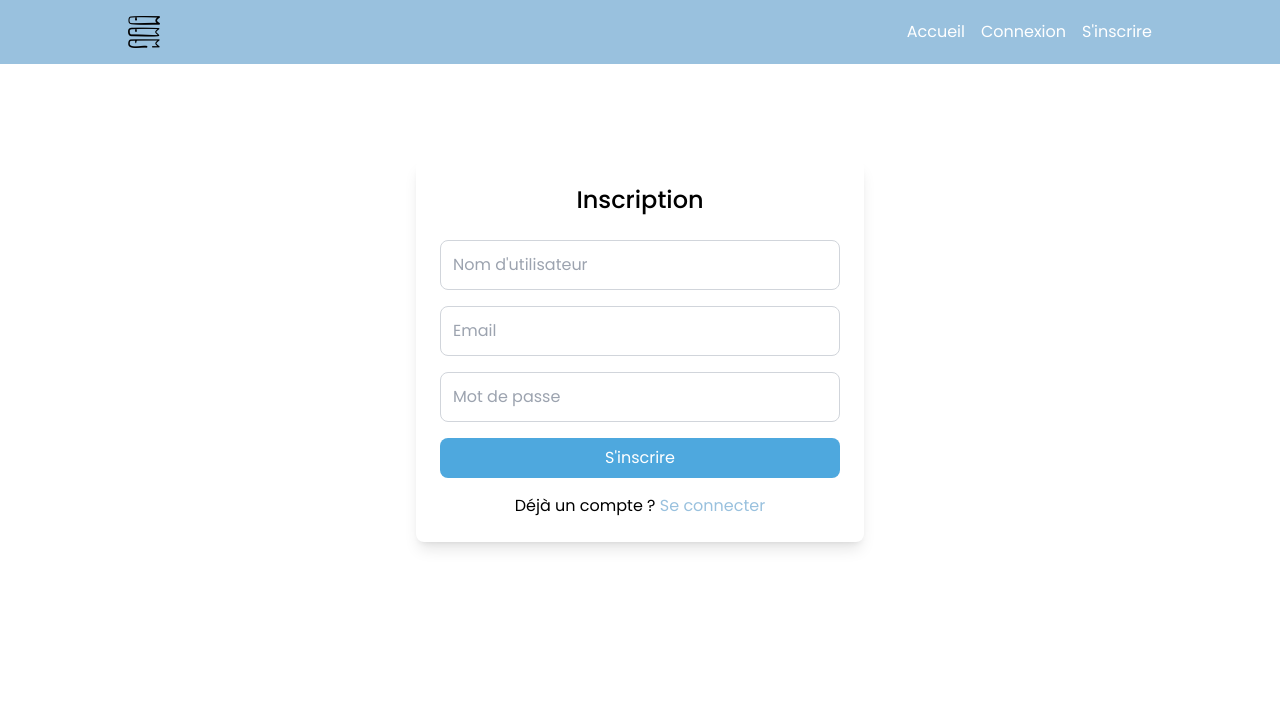
Test: Registration Page Tests › Registration Failure with Existing Email
Type "john" into the field with placeholder "Nom d'utilisateur" at [640, 265], box [440,240,840,290]
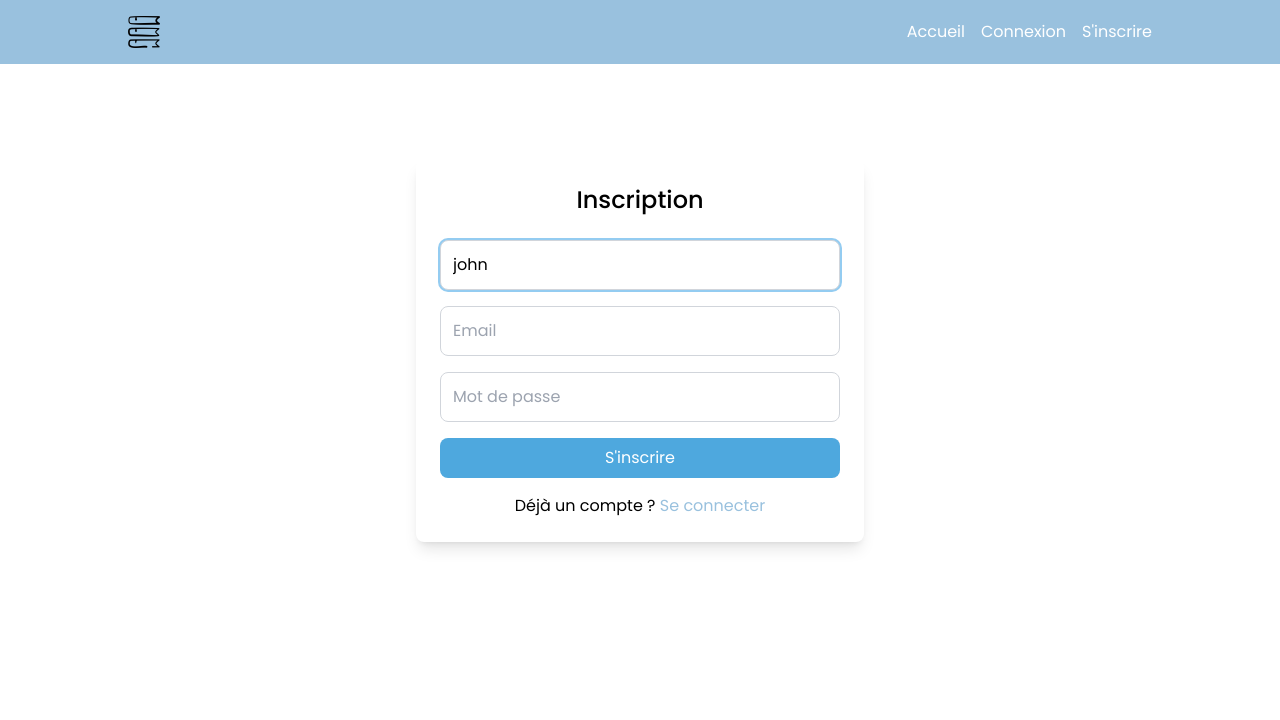
Type "test@test.test" into the field with placeholder "Email" at [640, 331], box [440,306,840,356]
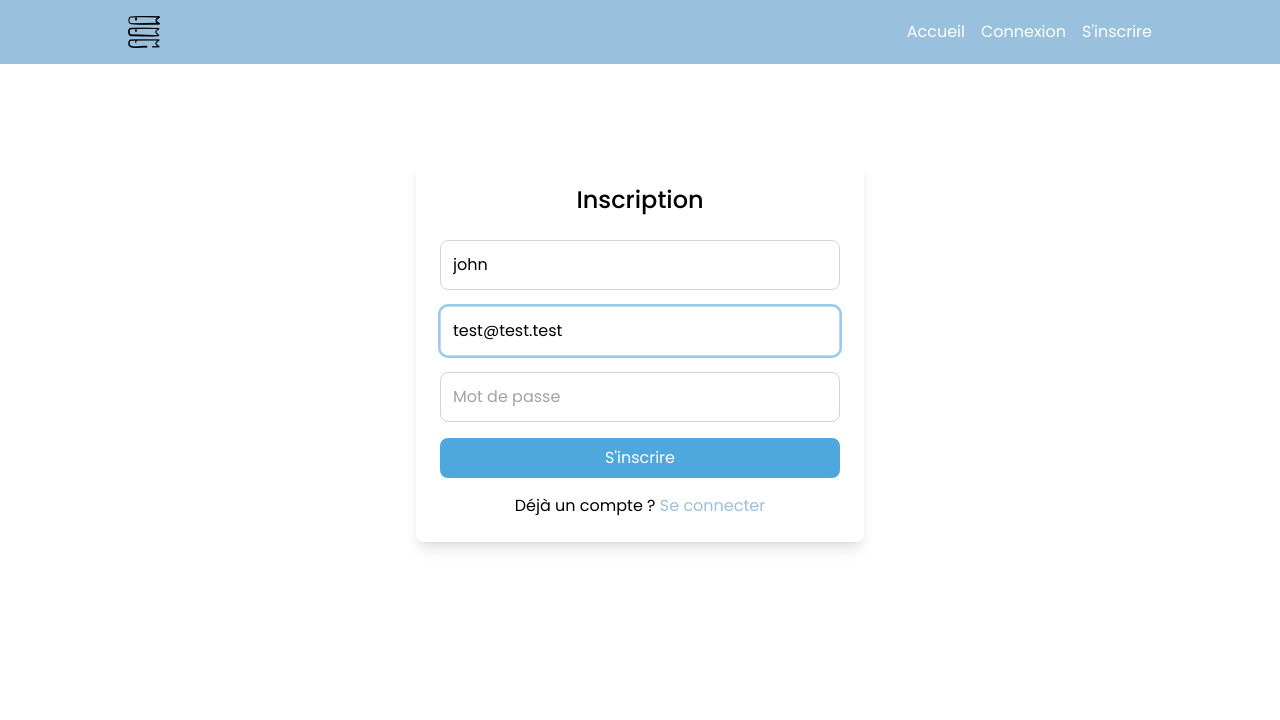
Type "123" into the password field with placeholder "Mot de passe" at [640, 397], box [440,372,840,422]
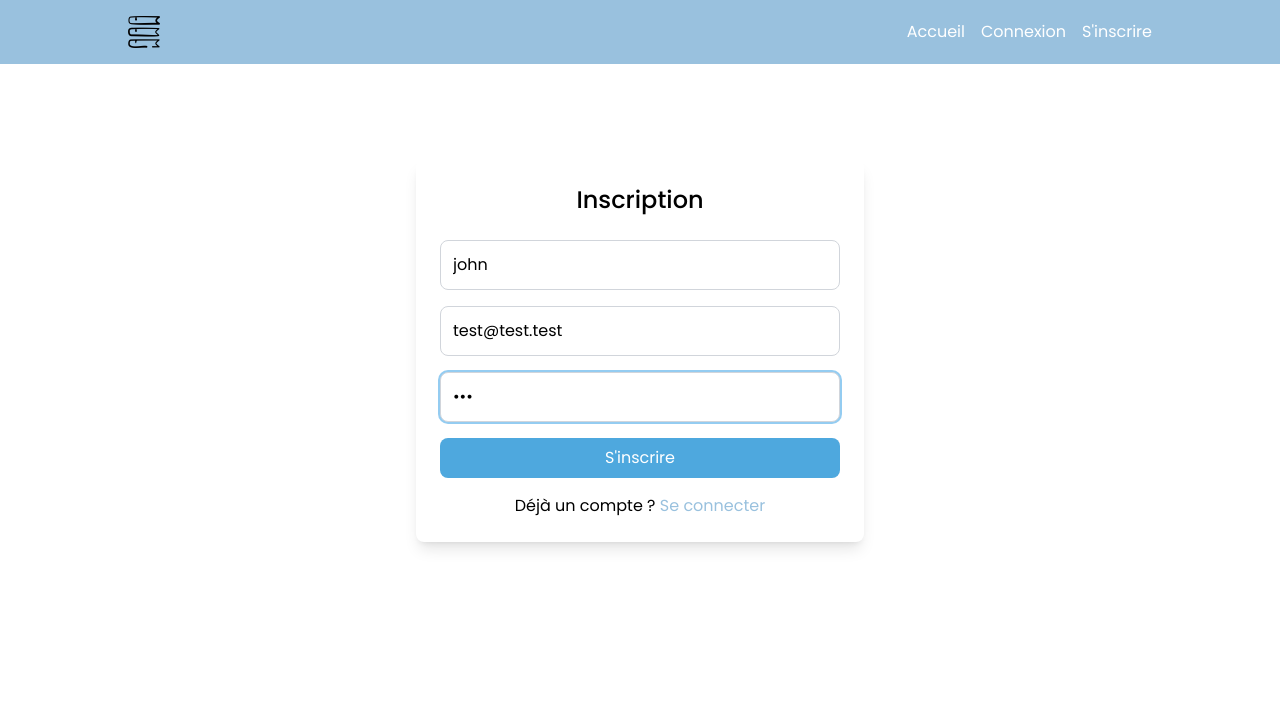
Click the submit button at [640, 458], box [440,438,840,478]
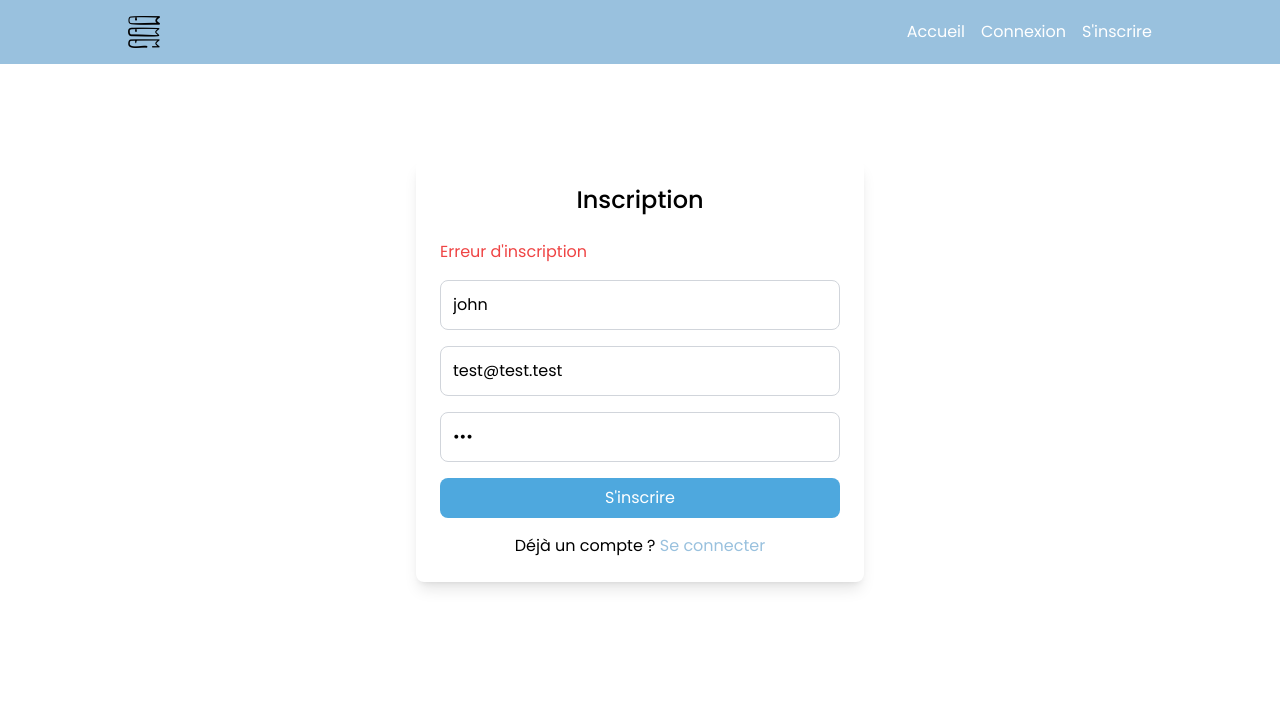
expect the text "Erreur d'inscription" is shown: met, box [440,240,587,263]
